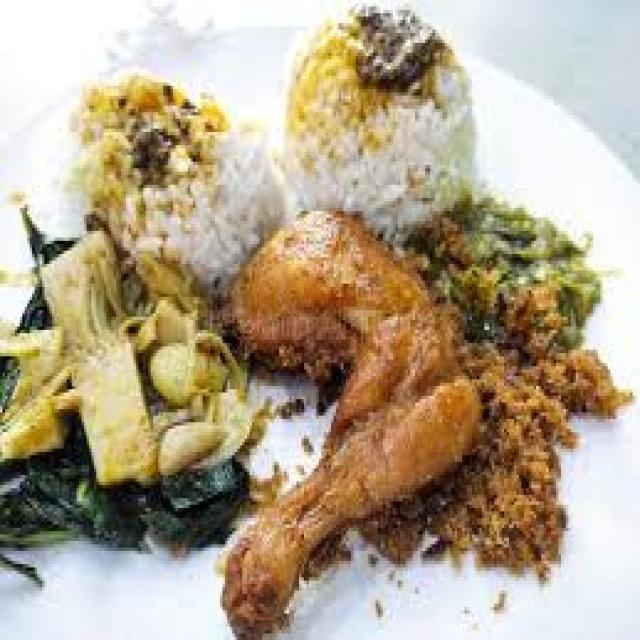Frango: (217, 211, 496, 626)
